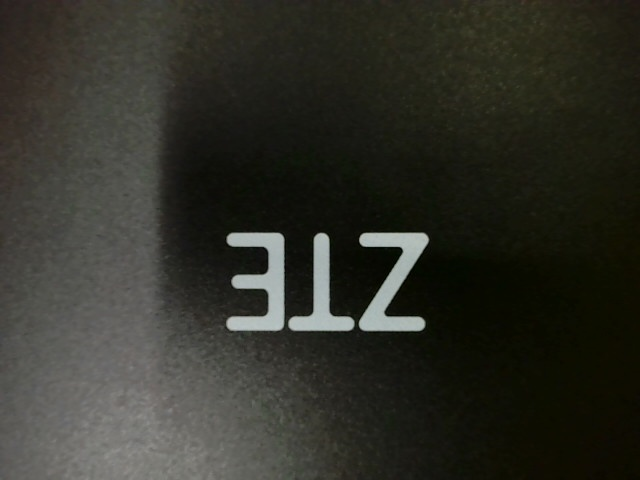AN_ZTE: (218, 222, 431, 345)
